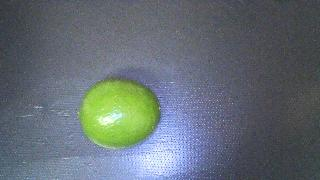EXPORTACION: (78, 78, 161, 149)
